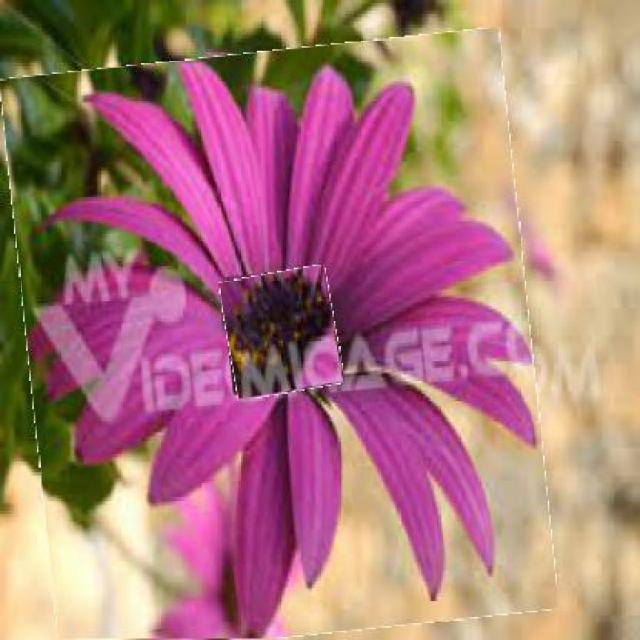Flower: (14, 40, 545, 638), (223, 269, 340, 396)
